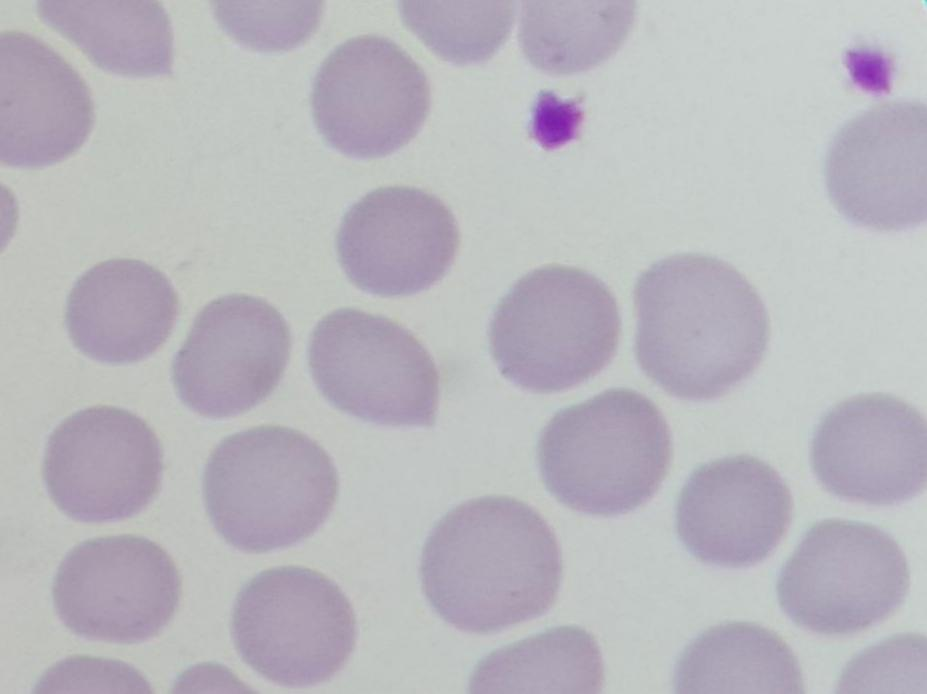Uninfected: (635, 251, 764, 400), (423, 499, 558, 635), (540, 386, 668, 517), (490, 264, 618, 394), (203, 426, 331, 553), (777, 514, 907, 638), (308, 307, 437, 430), (310, 36, 433, 163), (173, 294, 291, 423), (40, 406, 163, 525), (232, 567, 351, 688), (53, 534, 179, 647), (823, 96, 927, 228), (337, 189, 457, 300), (0, 29, 94, 169), (680, 452, 788, 568), (813, 396, 927, 505), (67, 259, 181, 366), (42, 0, 178, 81), (463, 627, 609, 694), (673, 622, 801, 694), (520, 0, 637, 76)
